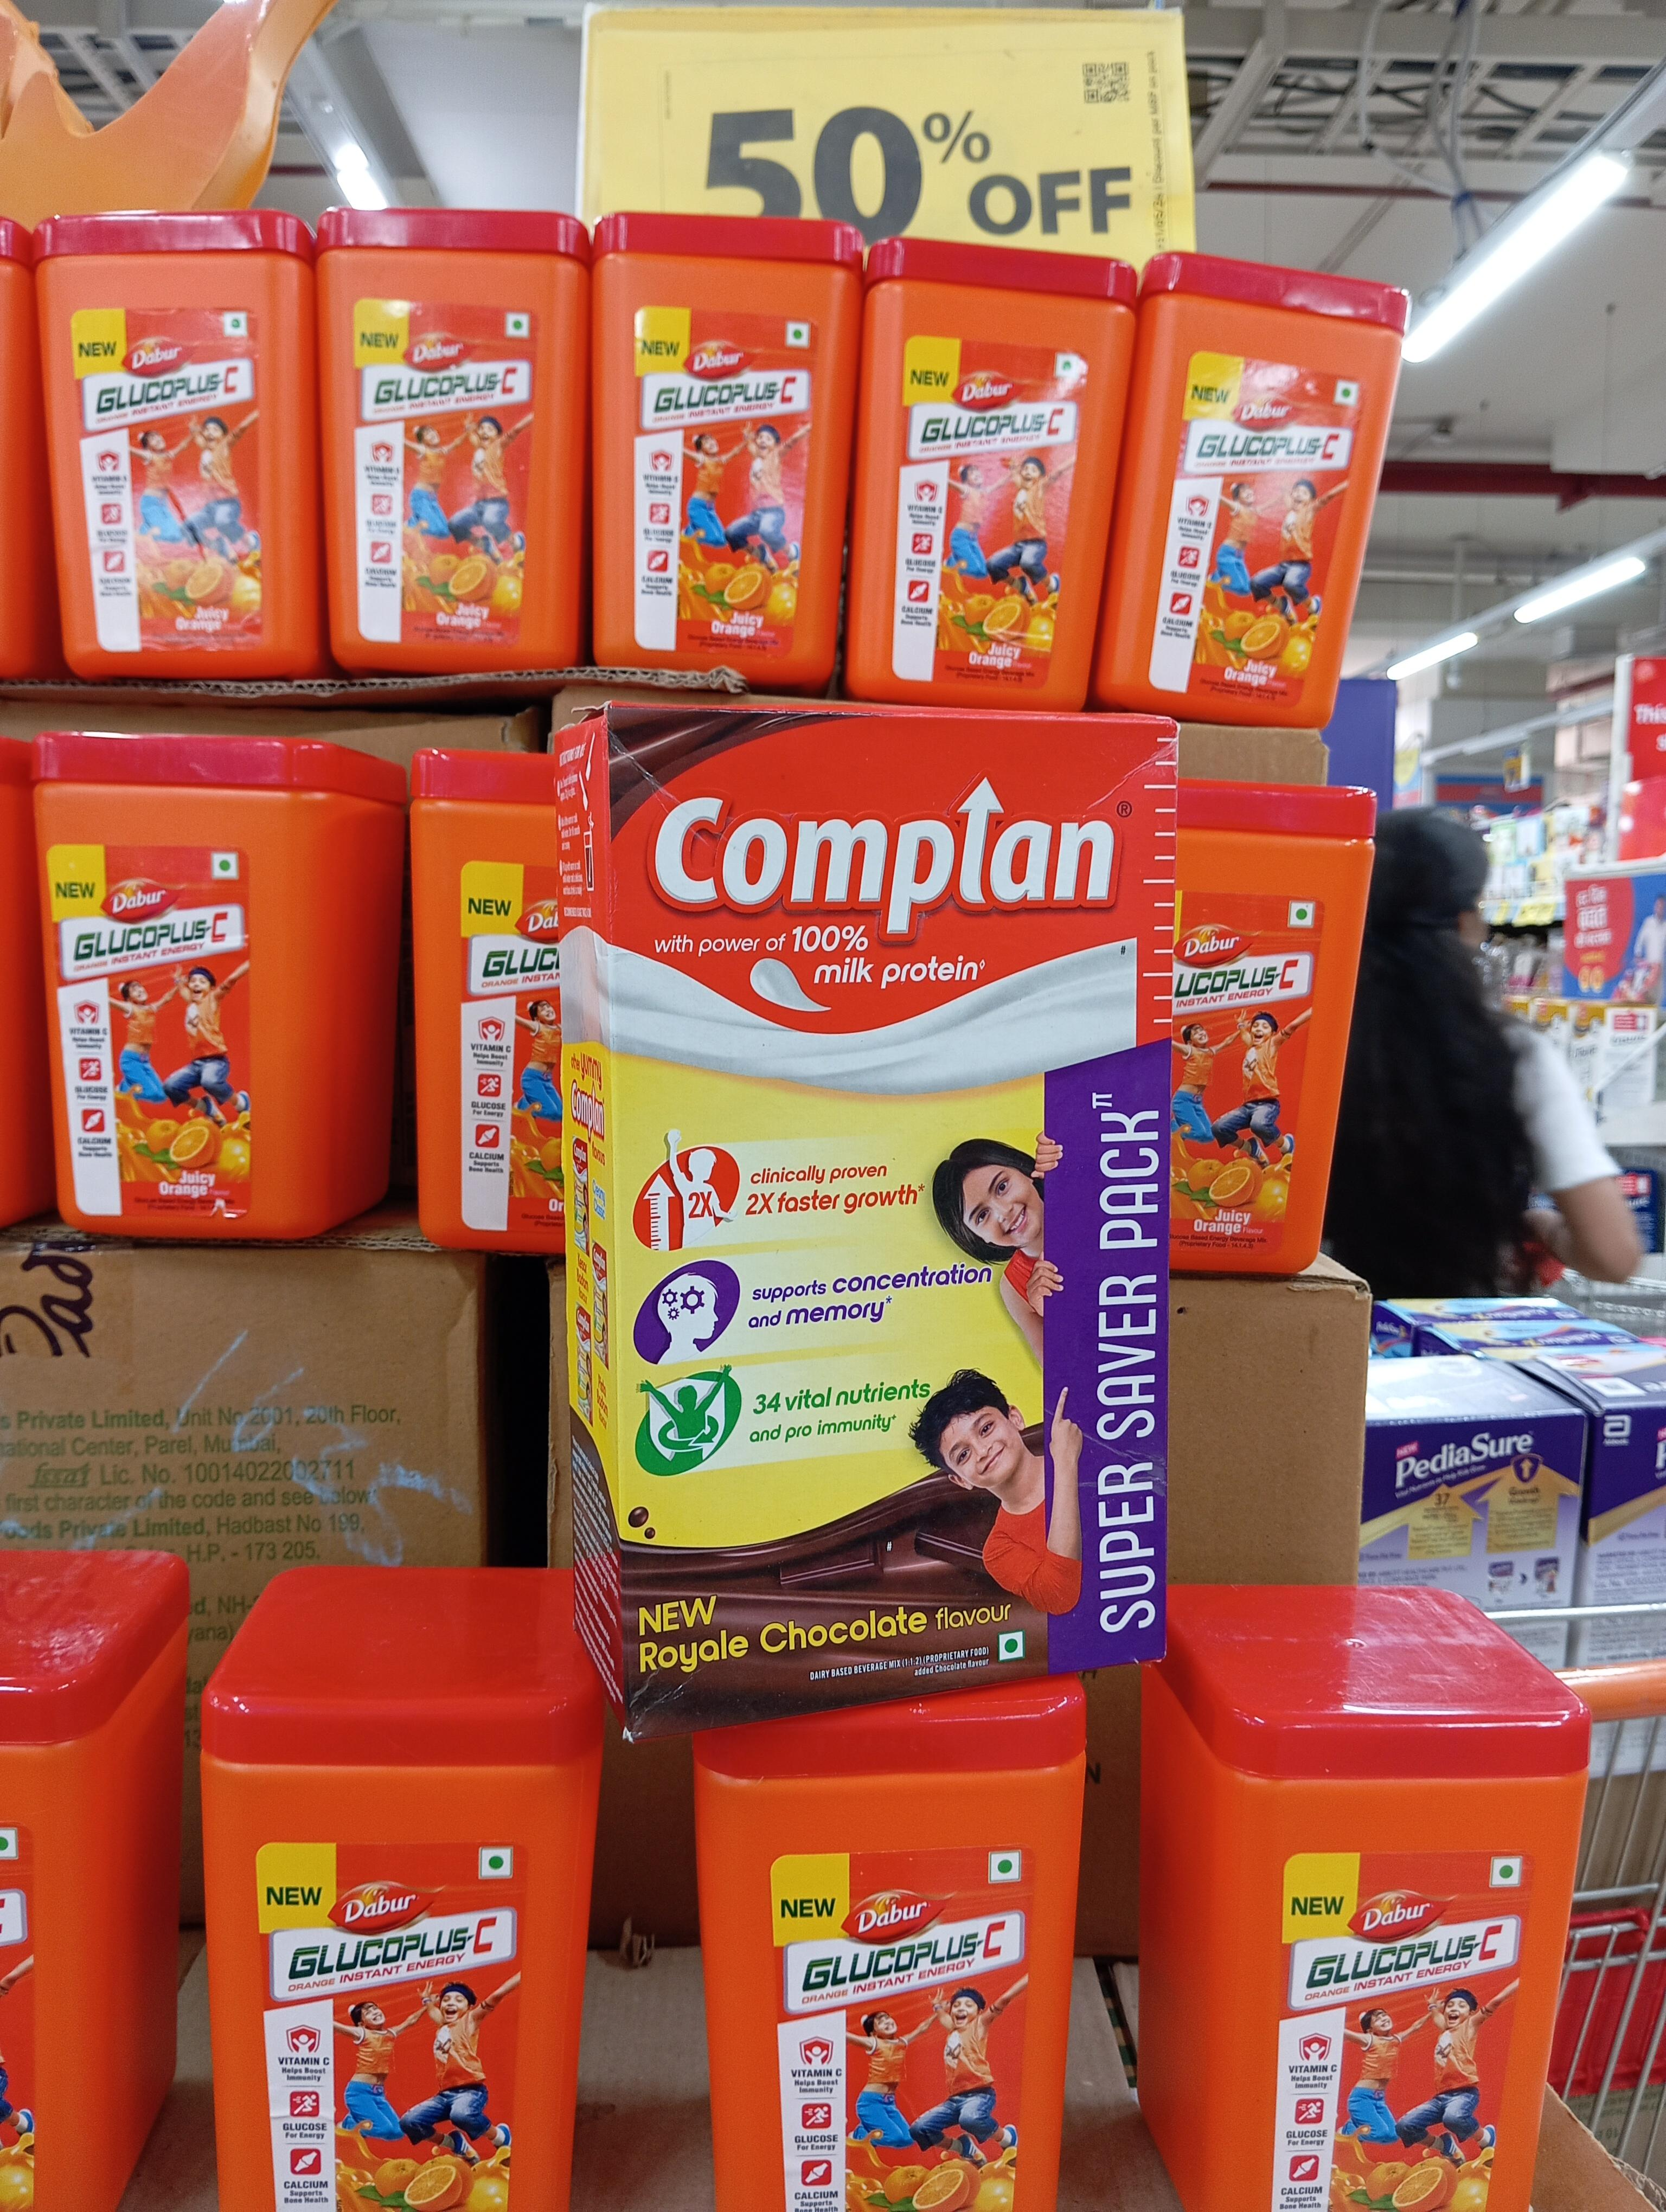COMPLAN_CHOCOLATE_1_KG_PACK: (593, 703, 1172, 1701)
